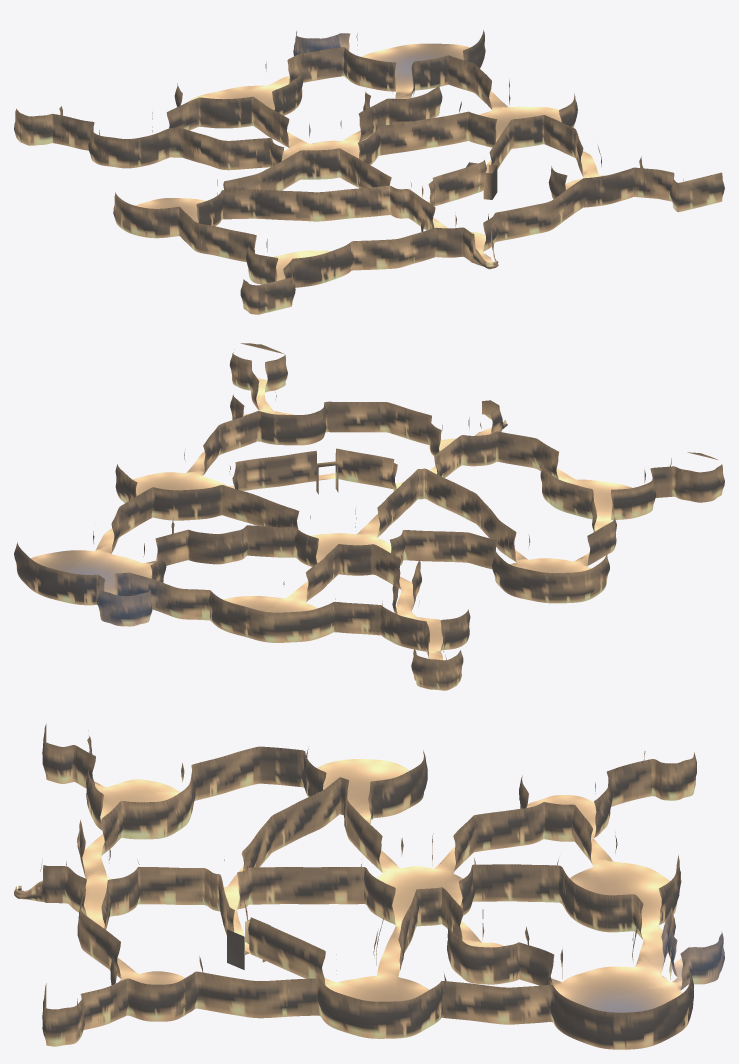
File: cave-shell.glb
3 views of the same model, one above another, from view 1: azimuth 30°, elevation 25°; view 2: azimuth 150°, elevation 25°; view 3: azimuth 270°, elevation 25° (orthographic). The views are drawn at different scales.
Parts seen in each view (by area): view 1: cell:6:12:rock, cell:3:5:rock, cell:6:7:rock, cell:8:4:rock, cell:2:13:rock, cell:7:4:rock, cell:8:13:rock, cell:5:11:rock, cell:8:9:rock, cell:12:9:rock, cell:15:16:rock, cell:2:2:rock (+51 smaller); view 2: cell:8:16:rock, cell:13:16:rock, cell:8:7:rock, cell:6:9:rock, cell:11:7:rock, cell:12:6:rock, cell:6:3:rock, cell:13:5:rock, cell:2:8:rock, cell:7:2:rock, cell:1:17:rock, cell:15:14:rock (+41 smaller); view 3: cell:9:6:rock, cell:11:3:rock, cell:14:6:rock, cell:18:3:rock, cell:17:6:rock, cell:10:11:rock, cell:6:15:rock, cell:6:6:rock, cell:18:9:rock, cell:17:15:rock, cell:10:12:rock, cell:17:12:rock (+70 smaller).
Boxes of the visible parts, x1,y1,x2,y2 form: cell:6:12:rock: (281, 190, 321, 221); cell:3:5:rock: (96, 135, 135, 168); cell:6:7:rock: (206, 136, 245, 170); cell:8:4:rock: (219, 97, 252, 128); cell:2:13:rock: (198, 224, 231, 258); cell:7:4:rock: (187, 97, 221, 130); cell:8:13:rock: (351, 186, 383, 218); cell:5:11:rock: (243, 189, 277, 219); cell:8:9:rock: (297, 149, 328, 181); cell:12:9:rock: (398, 119, 429, 152); cell:15:16:rock: (584, 174, 614, 207); cell:2:2:rock: (30, 113, 61, 145); cell:8:16:rock: (482, 431, 520, 465); cell:13:16:rock: (345, 402, 384, 432); cell:8:7:rock: (341, 544, 376, 575); cell:6:9:rock: (431, 531, 466, 562); cell:11:7:rock: (256, 526, 292, 557); cell:12:6:rock: (218, 525, 257, 564); cell:6:3:rock: (338, 602, 373, 634); cell:13:5:rock: (178, 529, 213, 564); cell:2:8:rock: (525, 569, 558, 603); cell:7:2:rock: (290, 607, 324, 642); cell:1:17:rock: (690, 465, 724, 502); cell:15:14:rock: (261, 412, 293, 445); cell:9:6:rock: (479, 864, 519, 901); cell:11:3:rock: (595, 893, 635, 932); cell:14:6:rock: (479, 942, 519, 984); cell:18:3:rock: (595, 1010, 635, 1049); cell:17:6:rock: (480, 985, 519, 1024); cell:10:11:rock: (287, 867, 327, 904); cell:6:15:rock: (132, 798, 172, 839); cell:6:6:rock: (480, 809, 519, 851); cell:18:9:rock: (364, 1000, 404, 1038); cell:17:15:rock: (131, 980, 172, 1021); cell:10:12:rock: (248, 867, 287, 904); cell:17:12:rock: (247, 979, 288, 1018).
Size of the model in its own units: 907 by 85.71 by 920.
